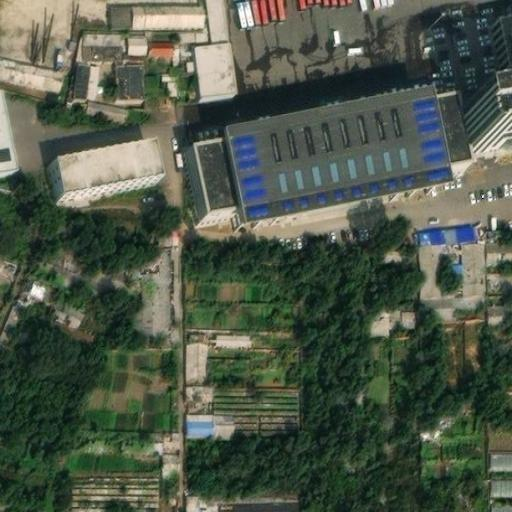building: (186, 88, 465, 226), (53, 141, 161, 195), (421, 234, 486, 293), (79, 22, 147, 58), (197, 33, 238, 89), (467, 95, 512, 140), (423, 291, 491, 316), (0, 86, 16, 172), (79, 97, 129, 124), (45, 296, 84, 329), (366, 302, 416, 326), (190, 404, 234, 430), (497, 8, 512, 81), (116, 56, 143, 94), (77, 57, 104, 93), (18, 274, 48, 302), (188, 335, 207, 377), (421, 222, 475, 236), (189, 376, 214, 406), (485, 233, 512, 259), (147, 34, 178, 56), (183, 488, 210, 512), (490, 295, 512, 321), (101, 505, 177, 512), (488, 447, 512, 468), (487, 477, 512, 497), (0, 254, 16, 283), (217, 327, 249, 340)
